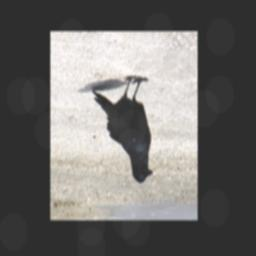Crow: (90, 74, 155, 185)
